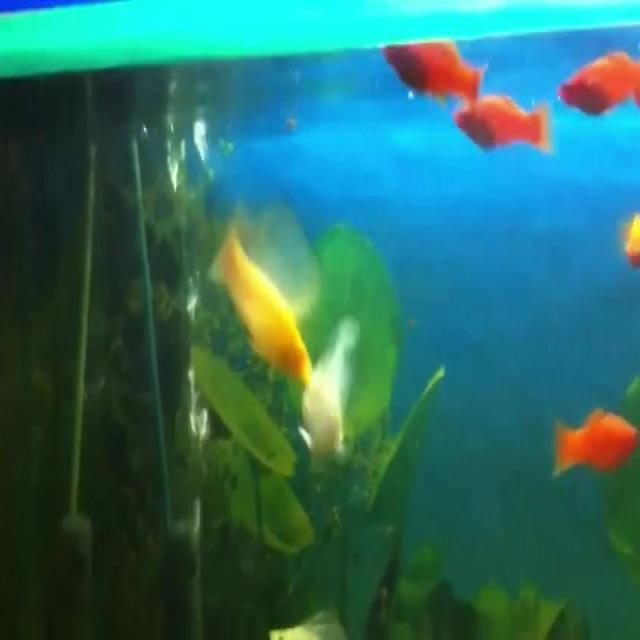PlatyFish: (205, 192, 326, 396), (446, 92, 554, 163), (549, 405, 640, 479), (556, 42, 640, 122)
